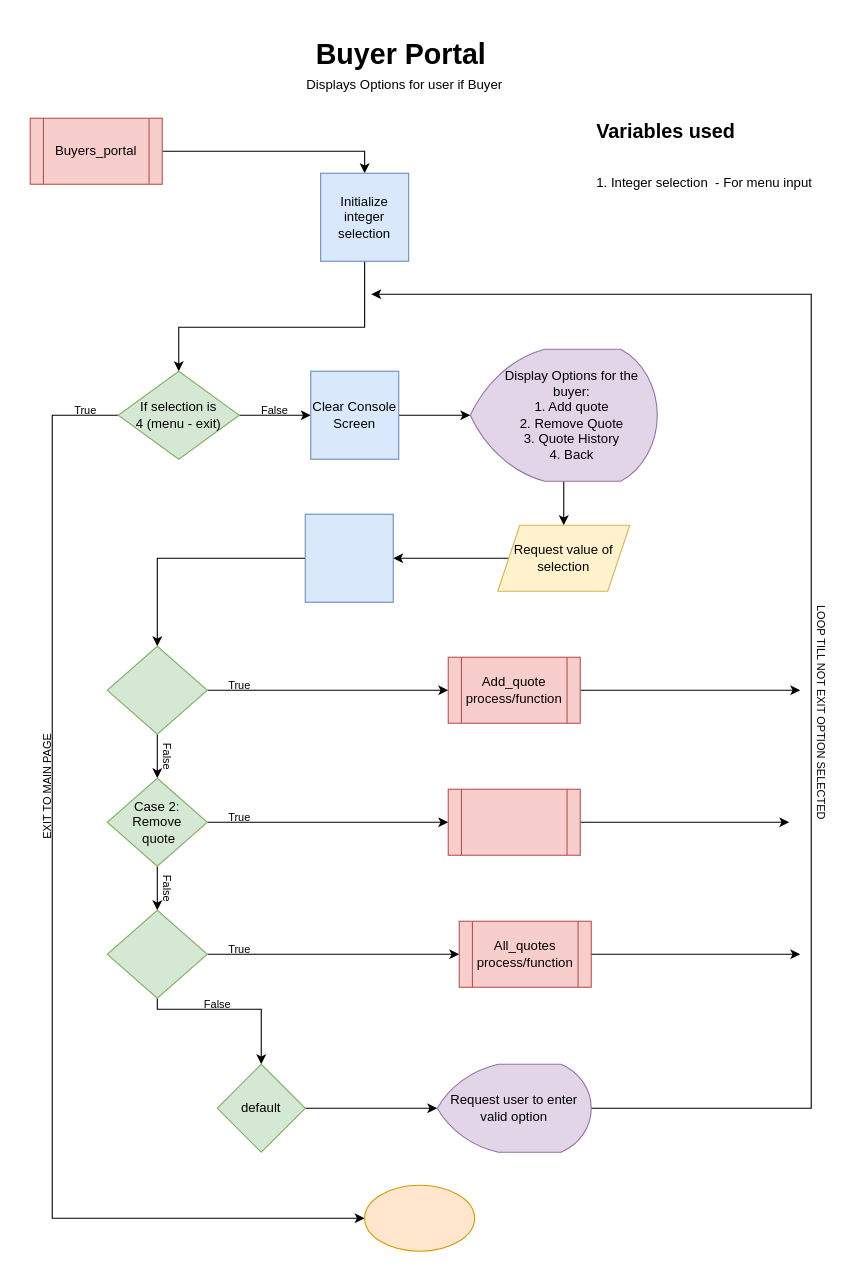
Image size: 868x1271. Some labels were removed from this diagram. The centre of each missing label's shape, as x and y in pixels:
Case 1: Add quote: point 156,689
Case 3: All quotes: point 156,953
Remove_quote process/function: point 513,821
Switch Selection: point 348,557
TERMINATE PROCESS: point 419,1217
